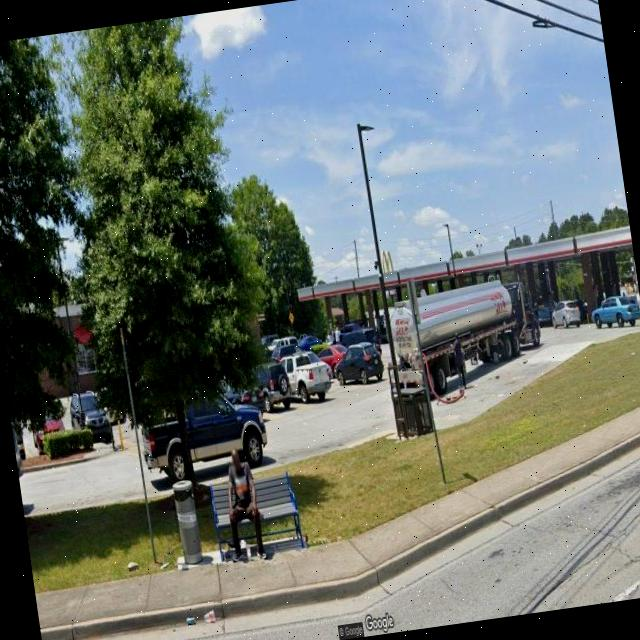seating: (208, 469, 306, 563)
trash_can: (172, 479, 204, 566)
